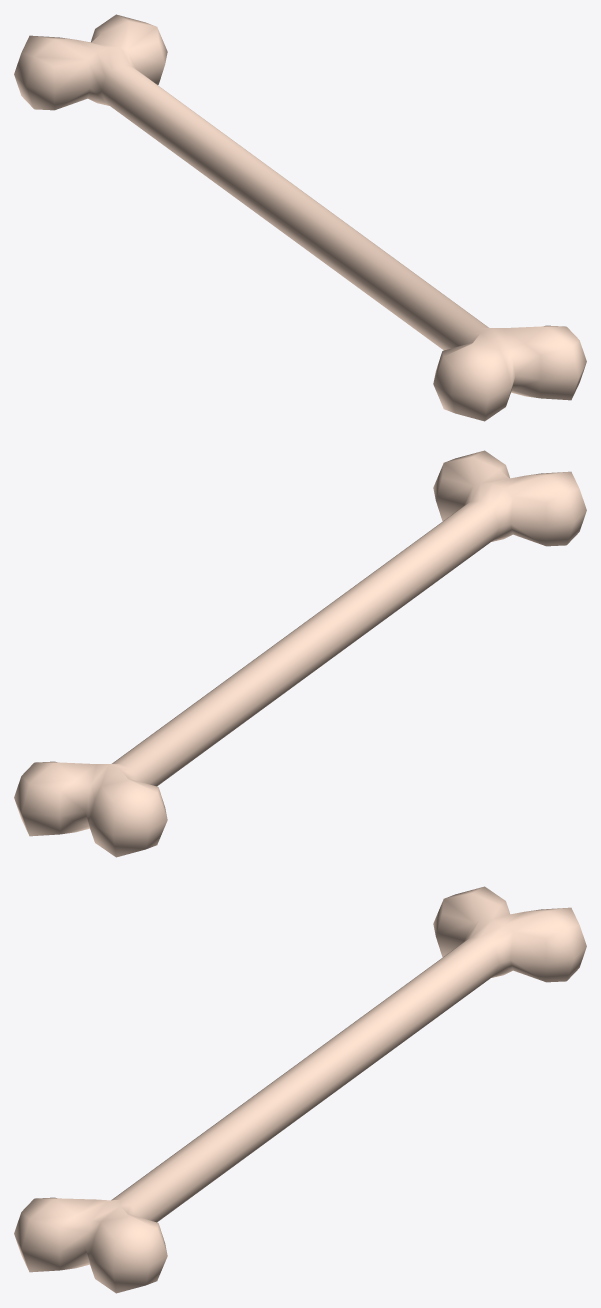
File: Bone.fbx
3 views of the same model, one above another, from view 1: azimuth 30°, elevation 25°; view 2: azimuth 150°, elevation 25°; view 3: azimuth 330°, elevation 25° (orthographic).
Visible parts, largest first — view 1: Bone; view 2: Bone; view 3: Bone.
Part boxes in pixels (x1,y1,x2,y2): Bone: (14, 14, 586, 421); Bone: (14, 450, 586, 857); Bone: (14, 886, 586, 1293).
Bounding box in the file's own units: 16.19 × 7.7 × 92.46.
